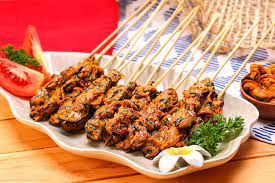sate: (24, 53, 241, 163)
